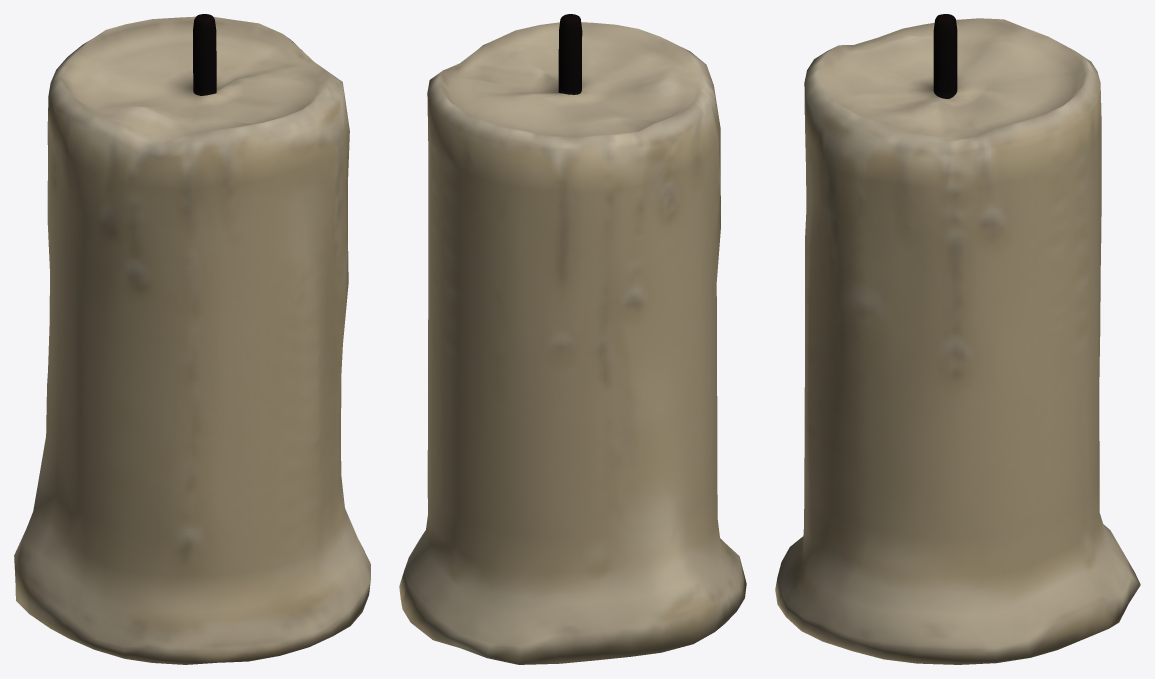
File: candle_07.fbx
The picture shows the model from 3 angles, left to right: view 1: azimuth 30°, elevation 25°; view 2: azimuth 150°, elevation 25°; view 3: azimuth 270°, elevation 25°; orthographic projection.
Visible parts, largest first — view 1: Candle_007; view 2: Candle_007; view 3: Candle_007.
Boxes of the visible parts, x1,y1,x2,y2 form: Candle_007: (14, 14, 370, 664); Candle_007: (399, 14, 746, 664); Candle_007: (775, 14, 1140, 664).
Size of the model in its own units: 32.83 by 59.42 by 33.74.
